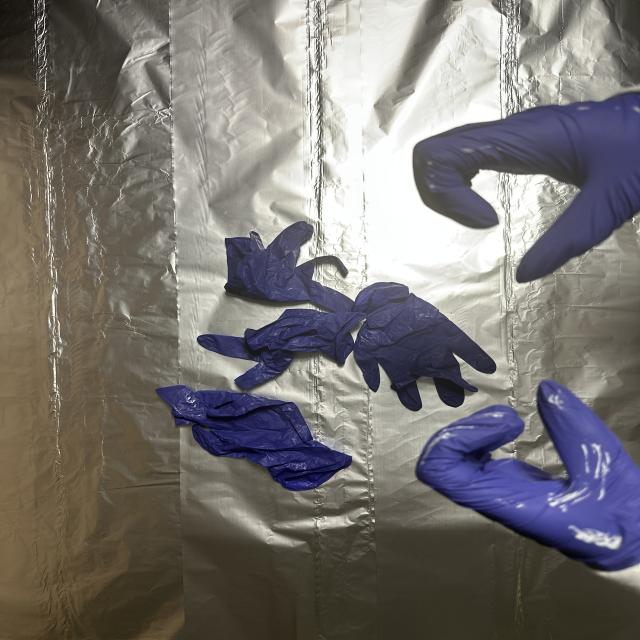gloves_contaminated: (413, 92, 640, 282), (416, 380, 640, 572)
